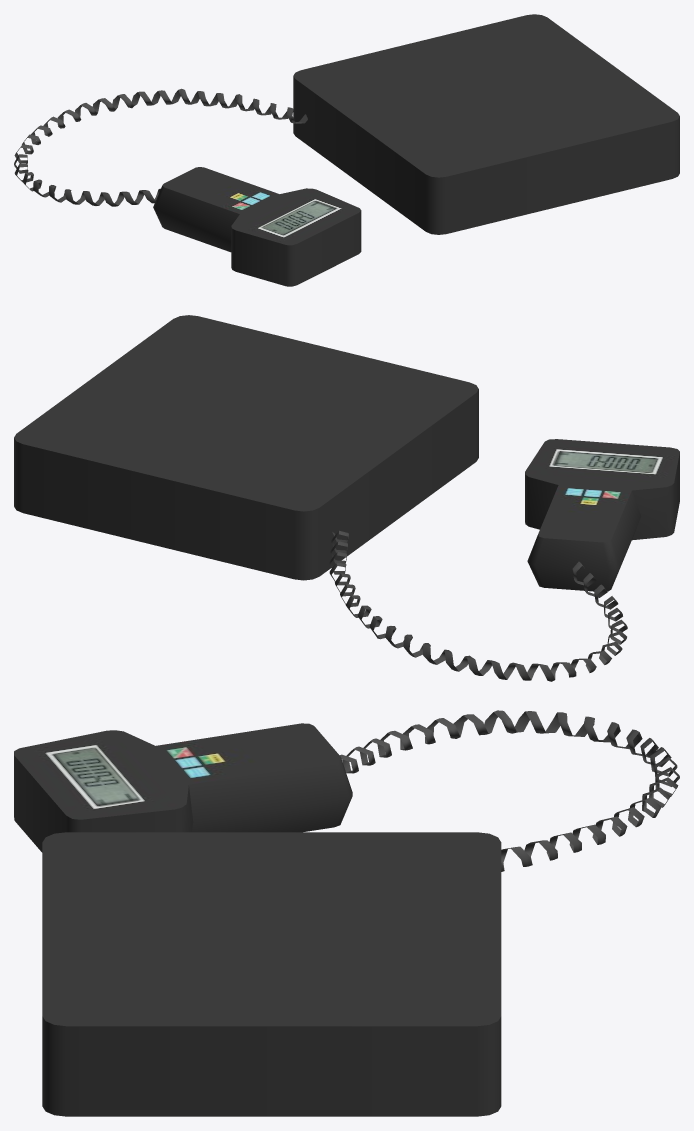
The model's file is Tool_freon_scales.glb.
3 views of the same model, one above another, from view 1: azimuth 30°, elevation 25°; view 2: azimuth 150°, elevation 25°; view 3: azimuth 270°, elevation 25° (orthographic). The views are drawn at different scales.
Parts seen in each view (by area): view 1: freon_scales; view 2: freon_scales; view 3: freon_scales.
Part boxes in pixels (left/top/right/bottom): freon_scales: left=14, top=14, right=679, bottom=286; freon_scales: left=14, top=315, right=679, bottom=681; freon_scales: left=14, top=710, right=679, bottom=1116.
Bounding box in the file's own units: 0.464 × 0.0553 × 0.3338.
Materials: 1 (1 with a texture image).
